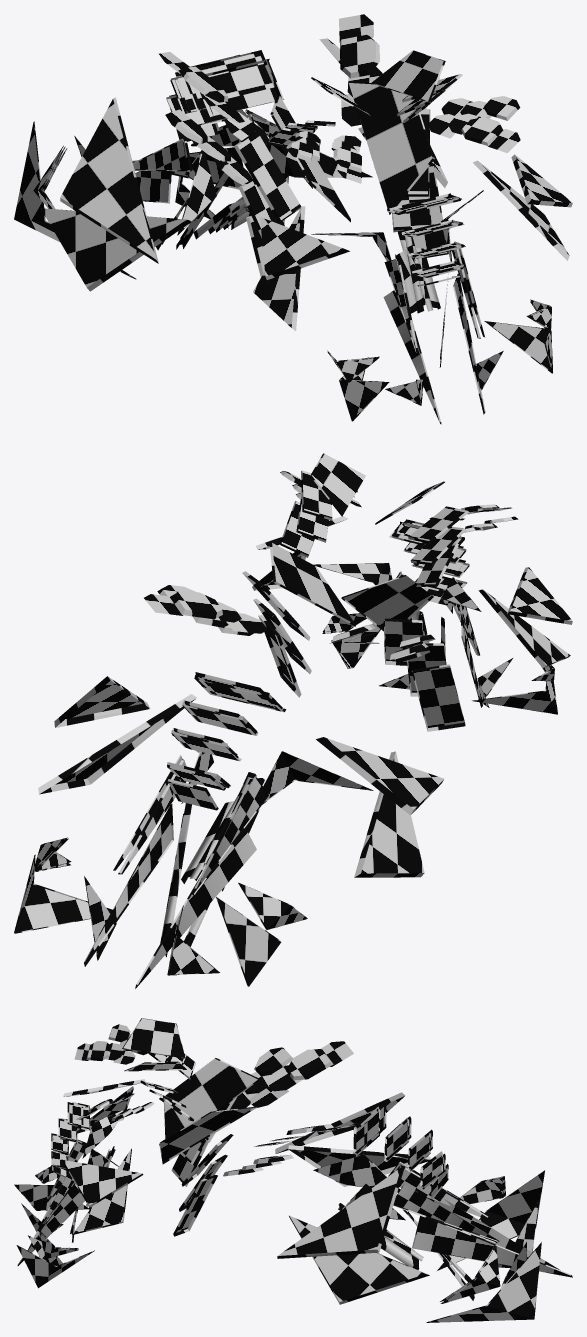
The model's file is fortify.obj.
3 renders of one model, top to bottom at view 1: azimuth 30°, elevation 25°; view 2: azimuth 150°, elevation 25°; view 3: azimuth 270°, elevation 25°, orthographic. The views are drawn at different scales.
Parts seen in each view (by area): view 1: Mesh1; view 2: Mesh1; view 3: Mesh1.
Boxes of the visible parts, x1,y1,x2,y2 form: Mesh1: [14, 14, 572, 424]; Mesh1: [14, 453, 572, 988]; Mesh1: [14, 1018, 572, 1322].
Bounding box in the file's own units: 97.88 × 87.81 × 173.
1 material, 1 textured.
